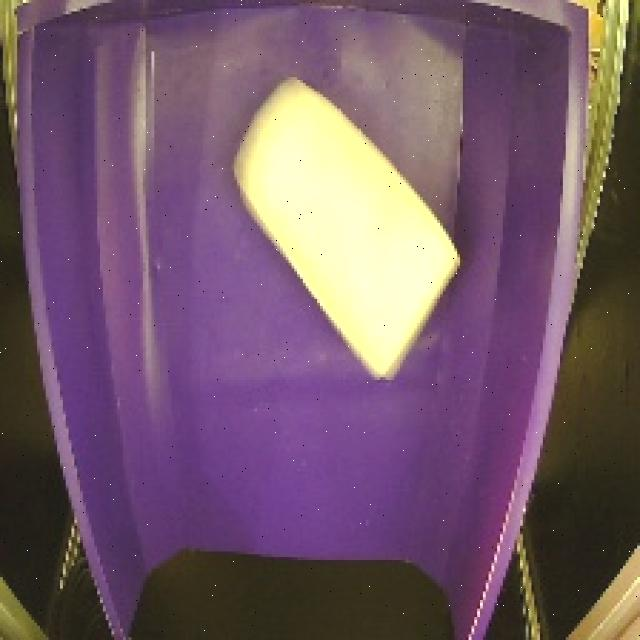white_radish: (229, 72, 464, 389)
